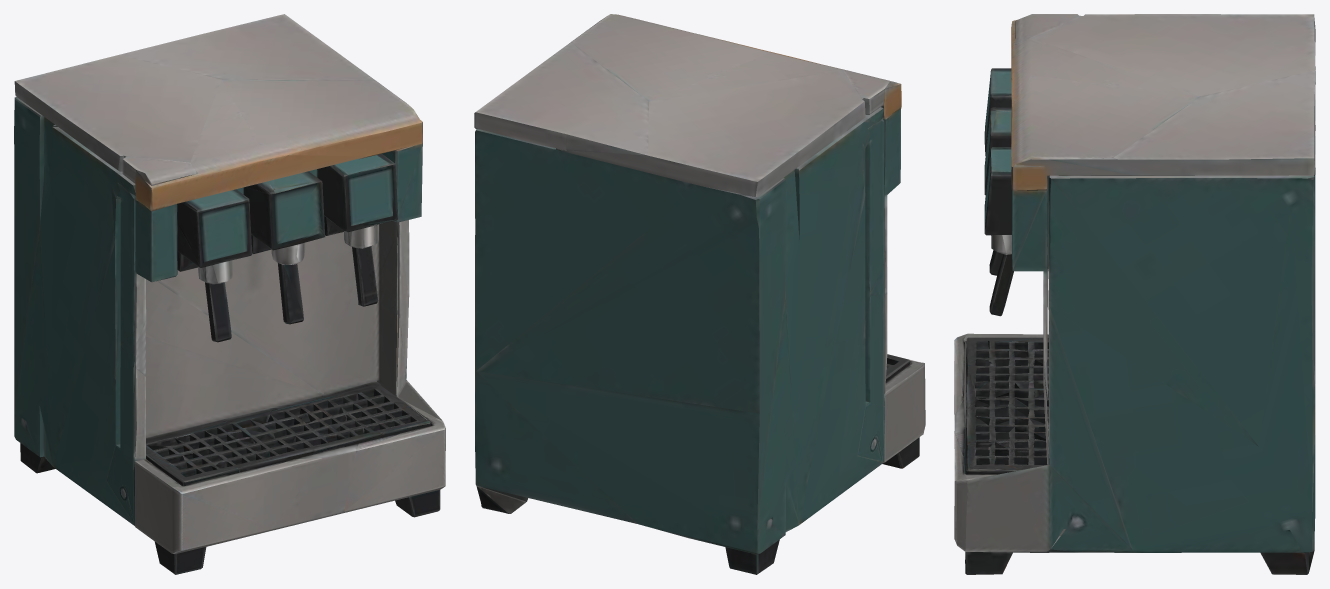
Rendered from sodaTap.glb.
3 renders of one model, left to right at view 1: azimuth 30°, elevation 25°; view 2: azimuth 150°, elevation 25°; view 3: azimuth 270°, elevation 25°, orthographic. The views are drawn at different scales.
Visible parts, largest first — view 1: Mesh_0; view 2: Mesh_0; view 3: Mesh_0.
Part boxes in pixels (<box>): Mesh_0: <box>14,14,445,574</box>; Mesh_0: <box>474,14,925,574</box>; Mesh_0: <box>954,14,1315,574</box>.
Size of the model in its own units: 0.527 by 0.7 by 0.5469.
1 material, 1 textured.
